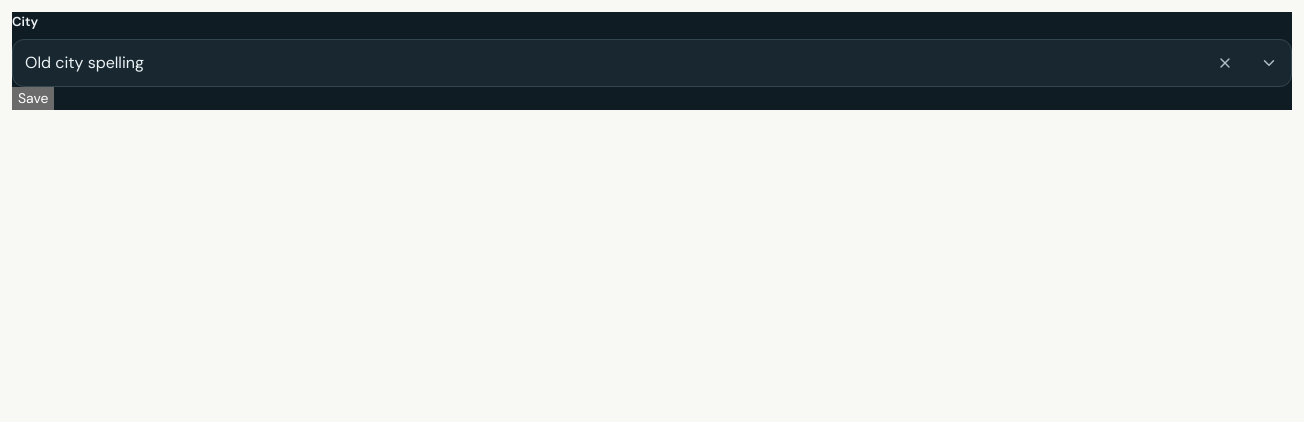
Test case: Pakistan city picker › reports loading failure without erasing the existing city and retries on reopening
Focus the dropdown labelled "City" at (608, 62), box [13,40,1203,86]
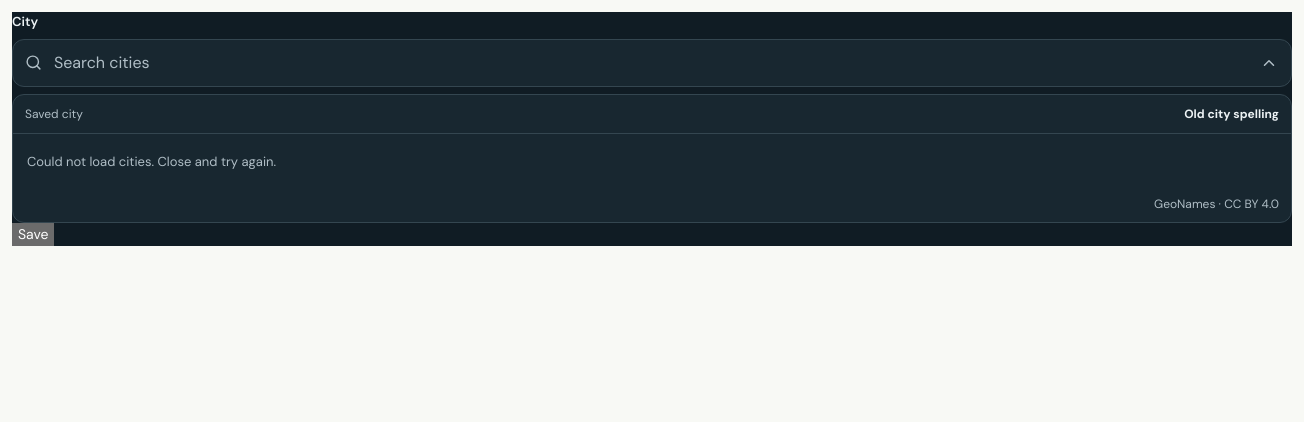
Expected: the text "Could not load cities. Close and try again." is shown, [27,152,276,170]
Press Escape in the dropdown labelled "City", box [42,40,1247,86]
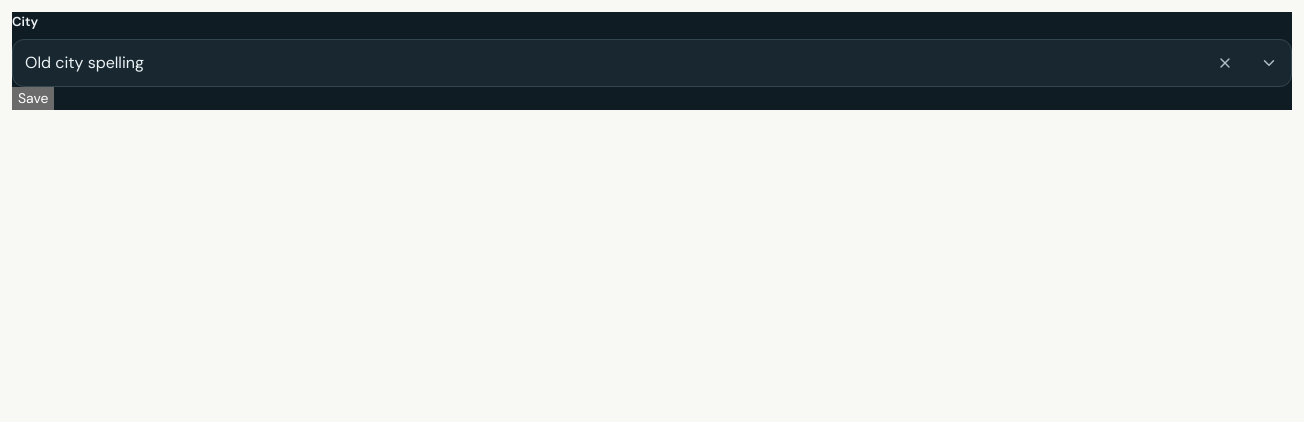
Expected: the dropdown labelled "City" holds "Old city spelling", [13,40,1203,86]
Click the button named "Cities in Pakistan" at (1269, 62), box [1247,40,1291,84]
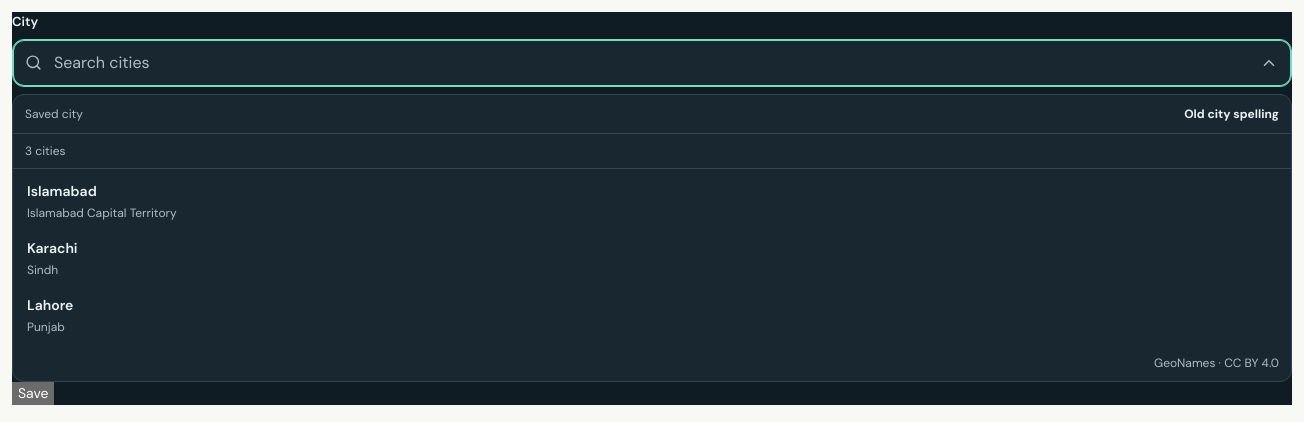
Expected: the option "Karachi Sindh" is shown, [17,230,1287,286]
